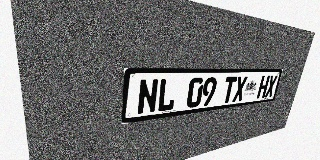0: (186, 77, 204, 108)
9: (200, 77, 218, 106)
H: (256, 76, 270, 99)
L: (156, 78, 177, 112)
N: (137, 79, 159, 115)
T: (221, 76, 237, 104)
X: (232, 76, 248, 102), (264, 75, 278, 98)
